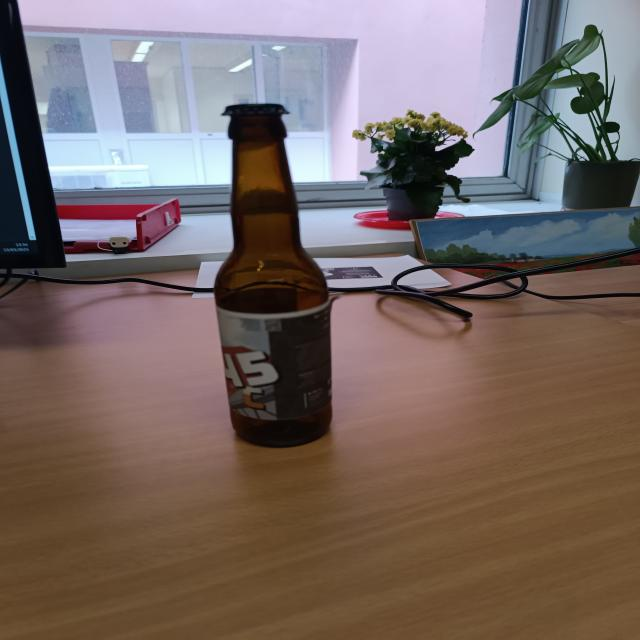Bottle: (211, 101, 336, 447)
Cap: (221, 102, 297, 119)
Label: (216, 306, 334, 422)
